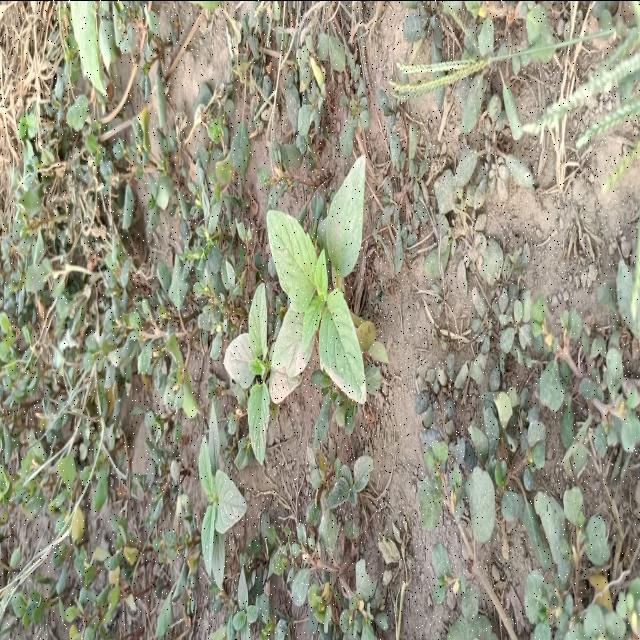plant: (224, 155, 379, 463), (199, 404, 246, 587)
